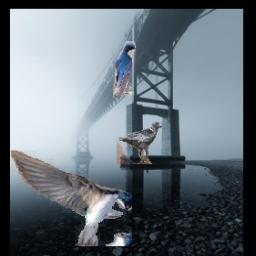Crow: (117, 121, 162, 165)
Swallow: (12, 150, 133, 246), (114, 41, 137, 98)
